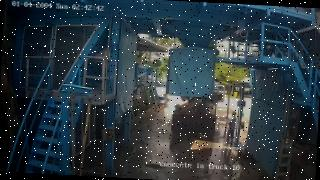cement_mixer_truck: (163, 74, 222, 141)
